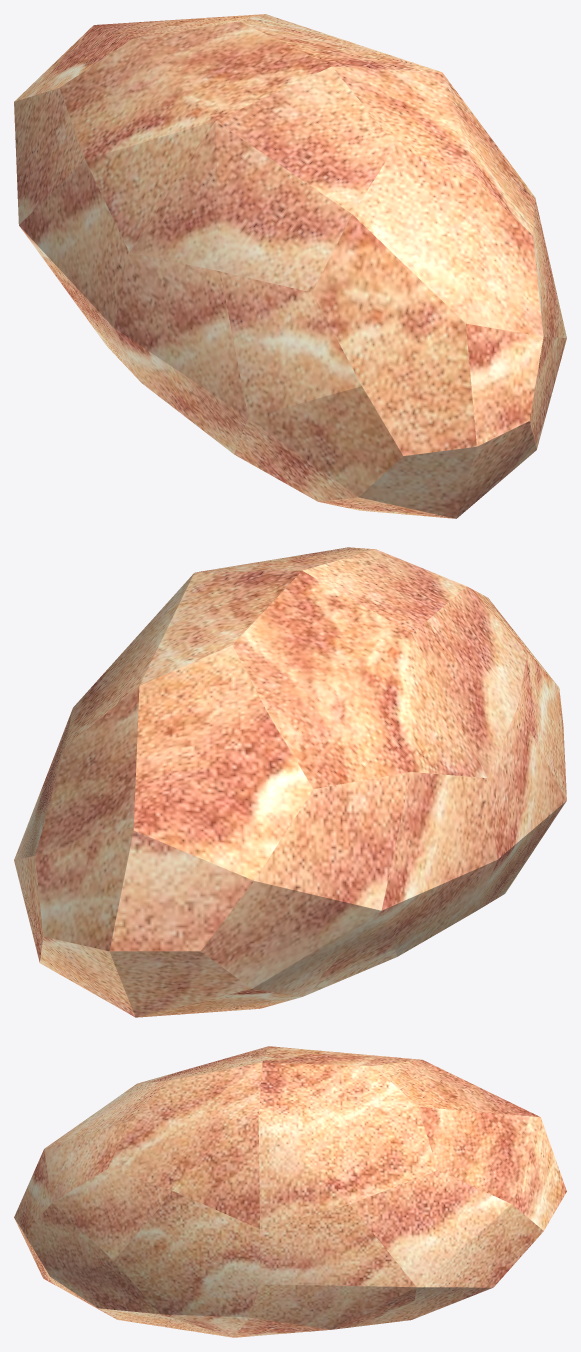
Rendered from boulder-sm-2n.glb.
3 renders of one model, top to bottom at view 1: azimuth 30°, elevation 25°; view 2: azimuth 150°, elevation 25°; view 3: azimuth 270°, elevation 25°, orthographic. The views are drawn at different scales.
Visible parts, largest first — view 1: Icosahedron_n3d; view 2: Icosahedron_n3d; view 3: Icosahedron_n3d.
Part boxes in pixels (x1,y1,x2,y2): Icosahedron_n3d: (14,14,566,518); Icosahedron_n3d: (14,547,566,1017); Icosahedron_n3d: (14,1046,566,1337).
Size of the model in its own units: 0.1139 by 0.106 by 0.2071.
1 material, 1 textured.
